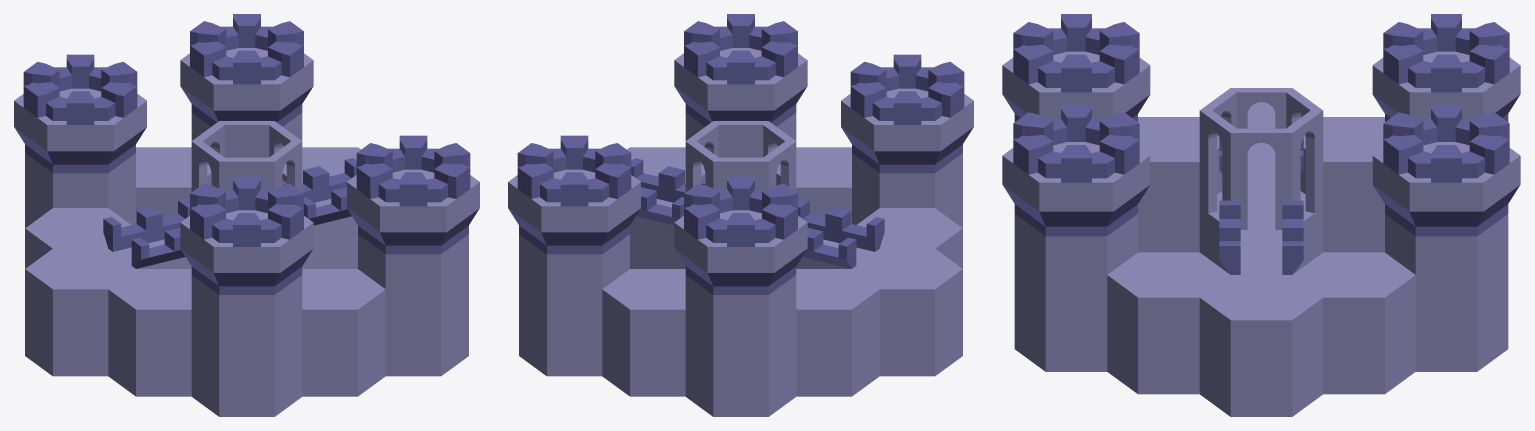
The model's file is Castle1.fbx.
3 views of the same model, side by side, from view 1: azimuth 30°, elevation 25°; view 2: azimuth 150°, elevation 25°; view 3: azimuth 270°, elevation 25° (orthographic). The views are drawn at different scales.
Parts seen in each view (by area): view 1: mergedBlocks; view 2: mergedBlocks; view 3: mergedBlocks.
Part boxes in pixels (x1,y1,x2,y2): mergedBlocks: [14, 14, 479, 416]; mergedBlocks: [508, 14, 973, 416]; mergedBlocks: [1002, 14, 1520, 416].
Size of the model in its own units: 50 by 22.5 by 48.5.
